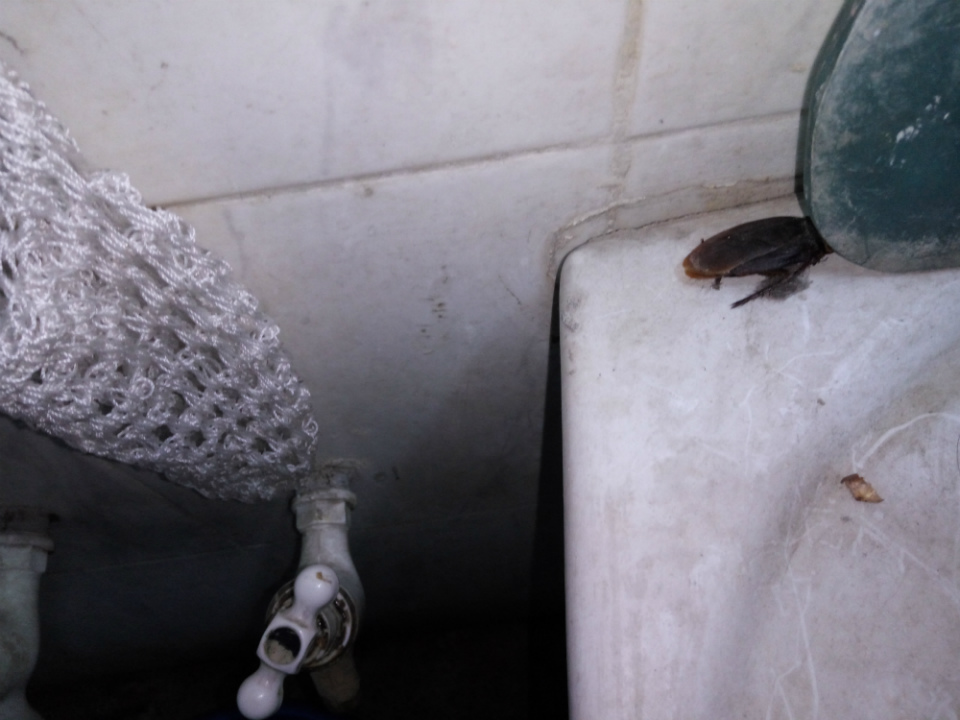cockroach: (627, 170, 856, 311)
